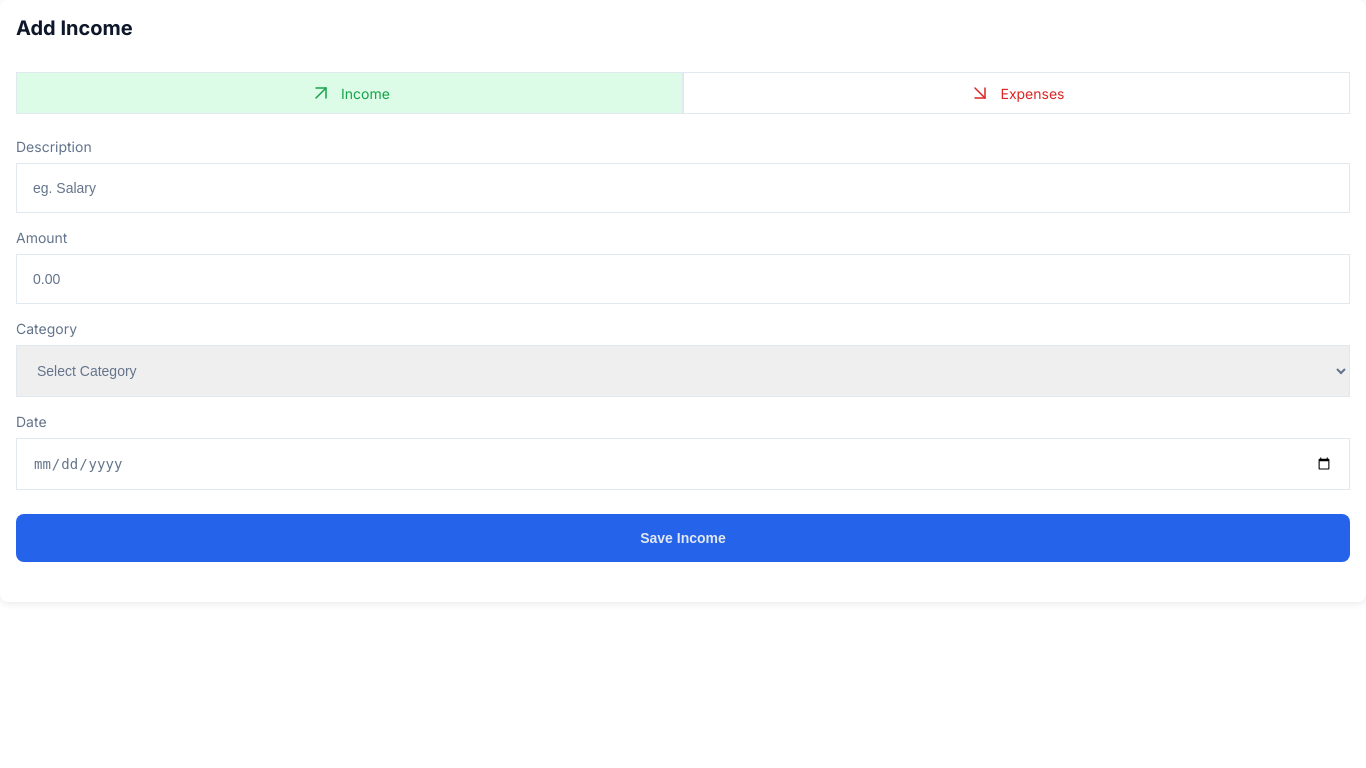
it: shows a toast when an expense transaction is added
Click the button "Expenses": (1016, 93) [683,72,1350,114]
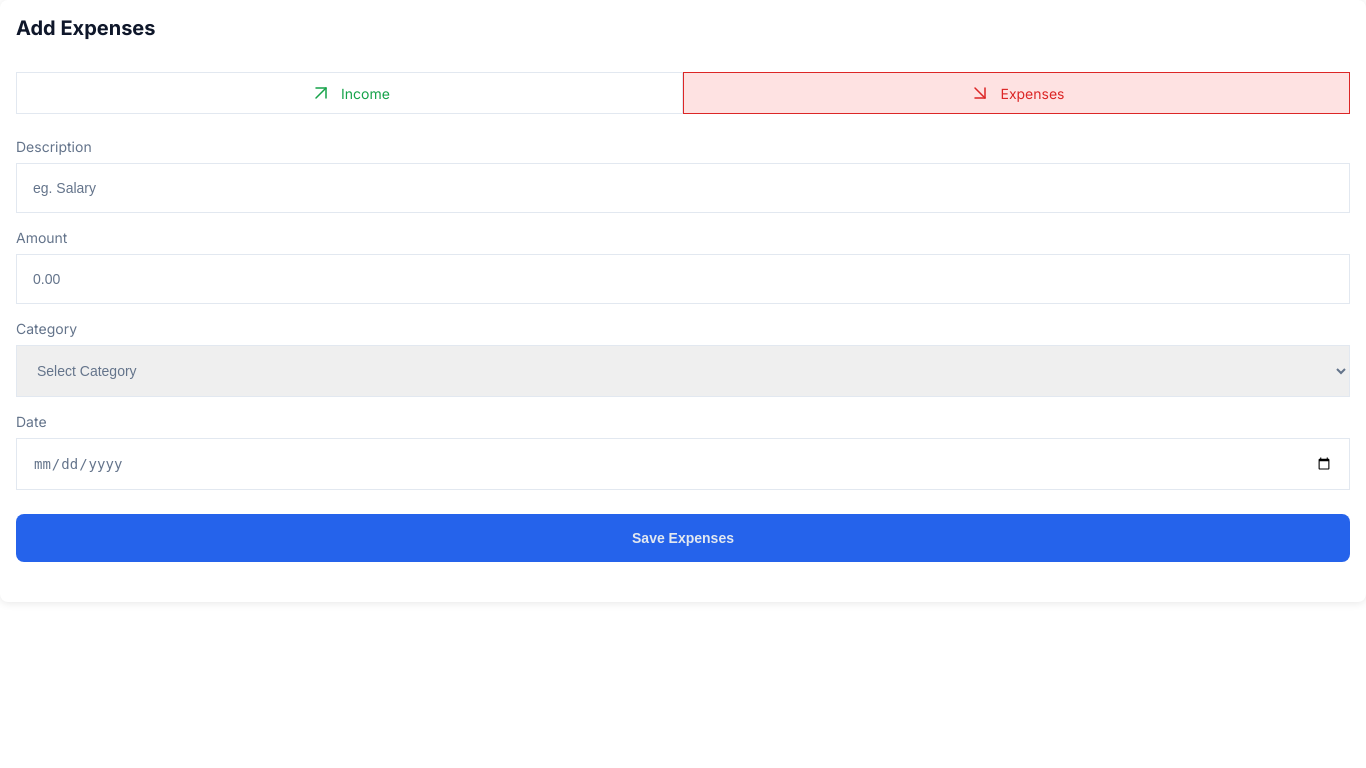
In the field labelled "Description": (683, 188) [16,163,1350,213], type "rent"
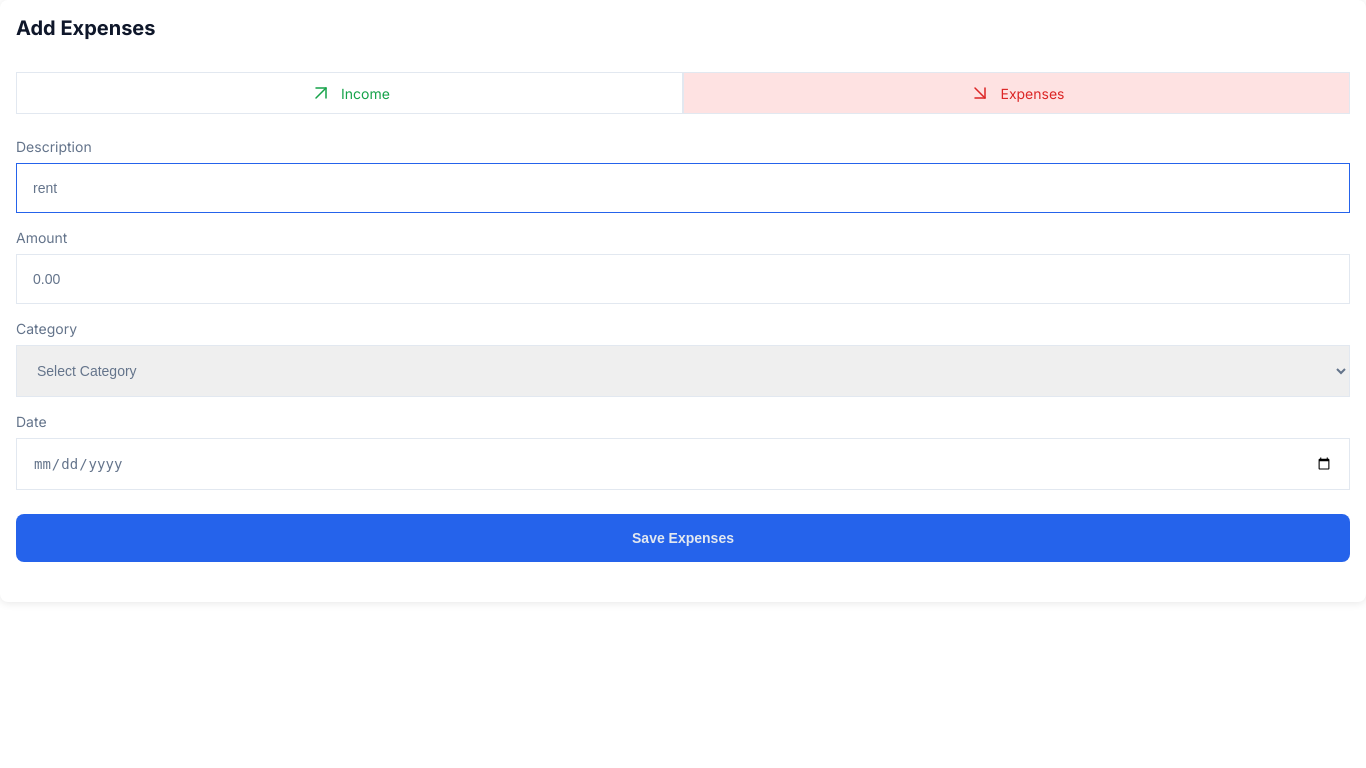
In the number field labelled "Amount": (683, 279) [16,254,1350,304], type "1200"
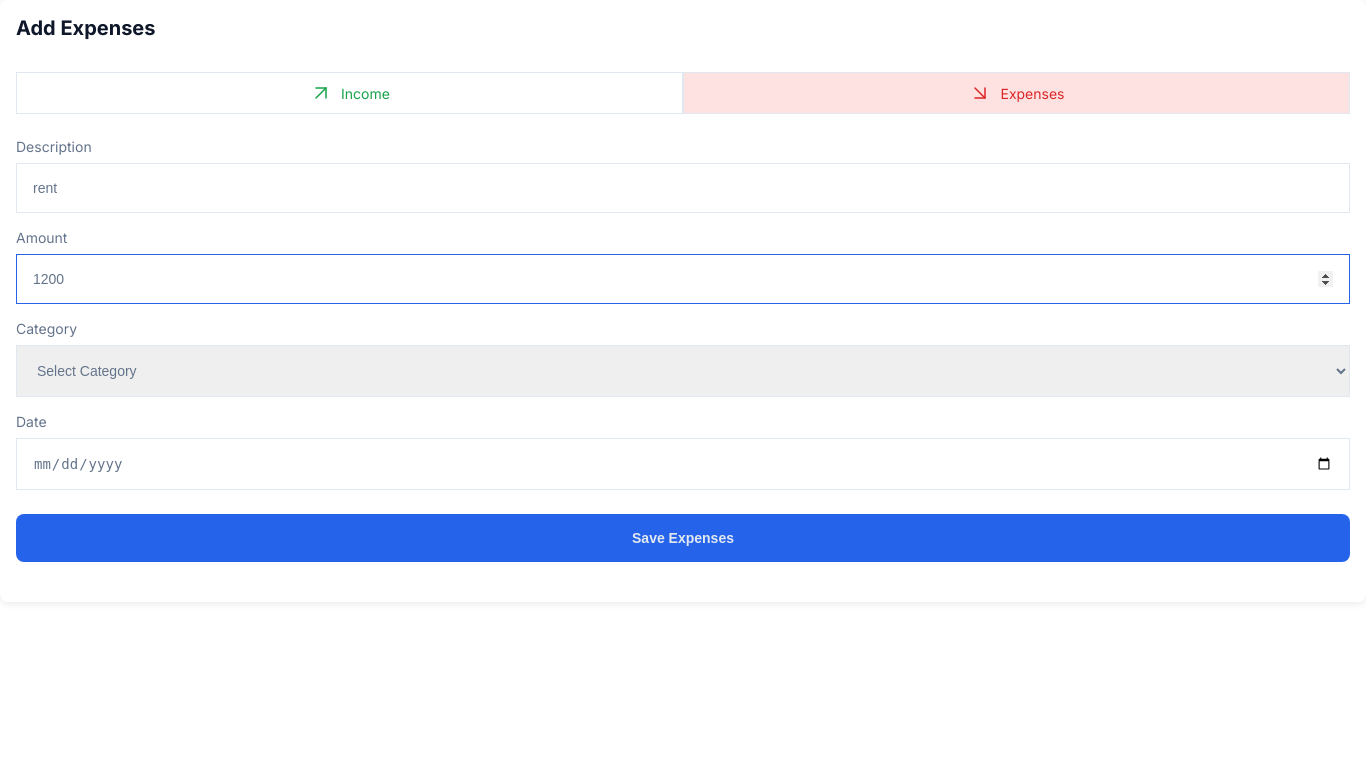
Select "housing" in the dropdown labelled "Category": (683, 371) [16,345,1350,397]
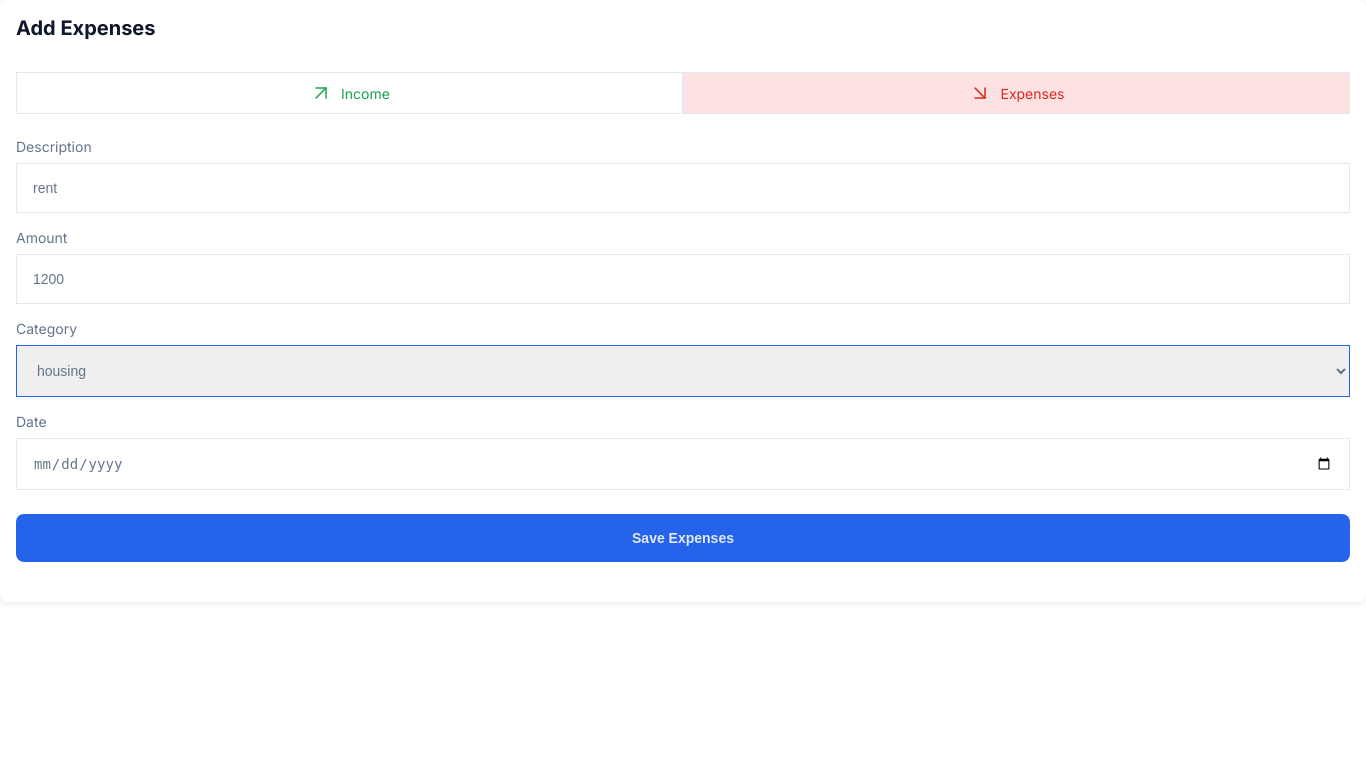
In the date field labelled "Date": (683, 464) [16,438,1350,490], type "2026-09-10"
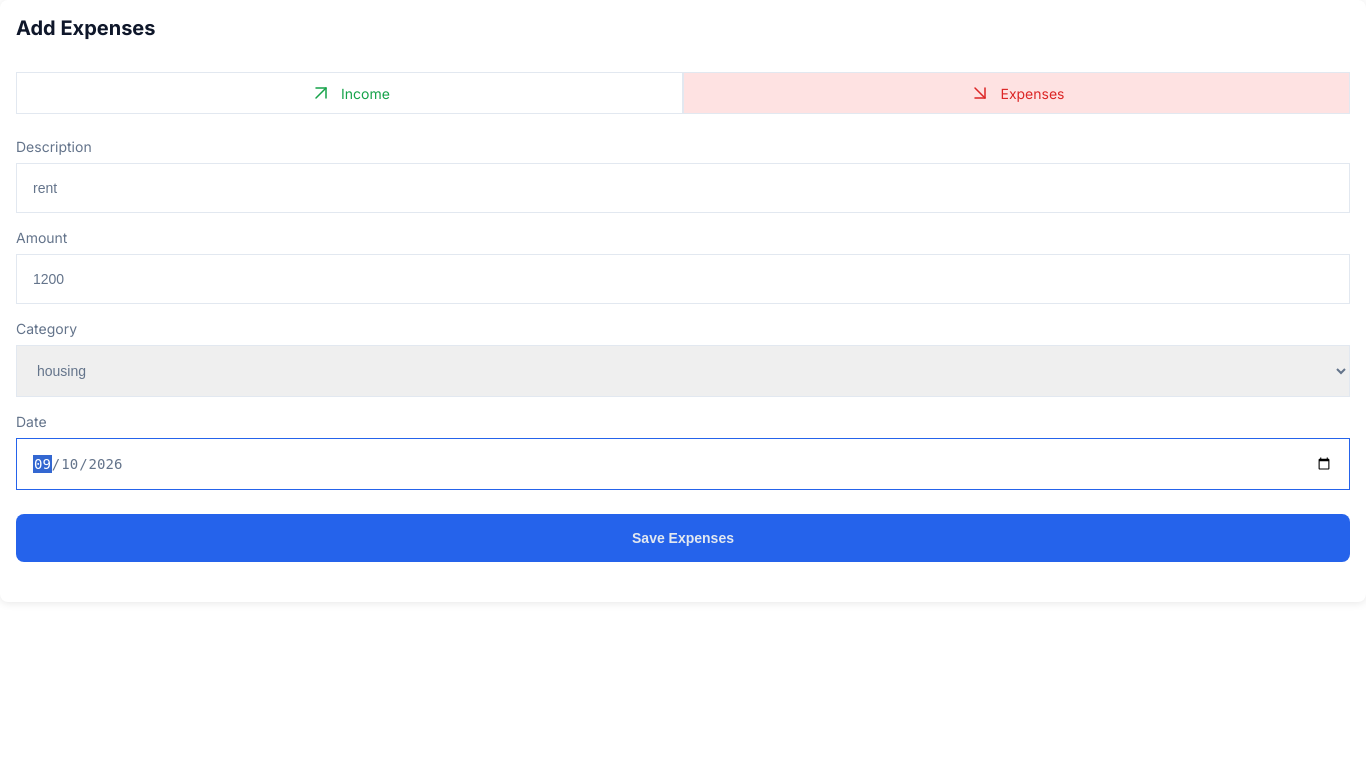
Click the button "Save expenses": (683, 538) [16,514,1350,562]
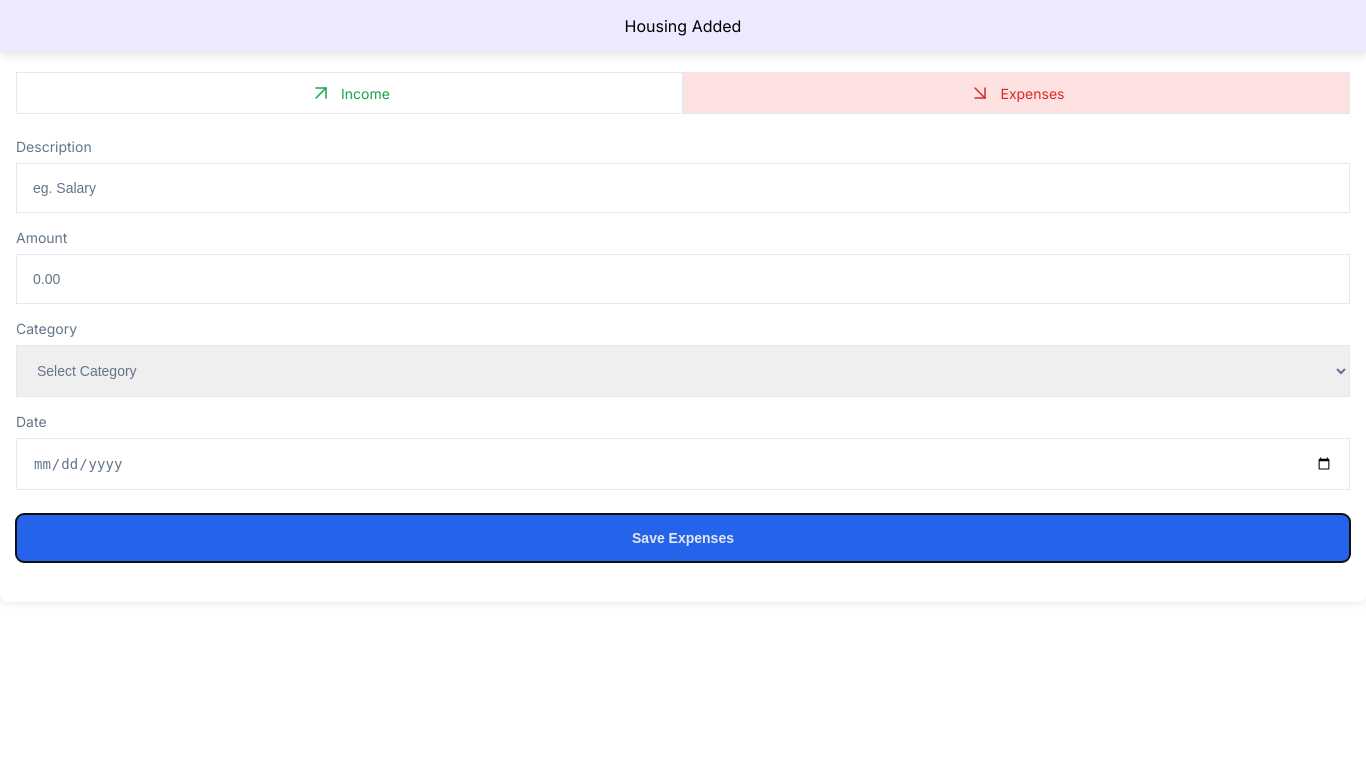
Expected: the text "housing added" is shown, [625,16,741,36]
